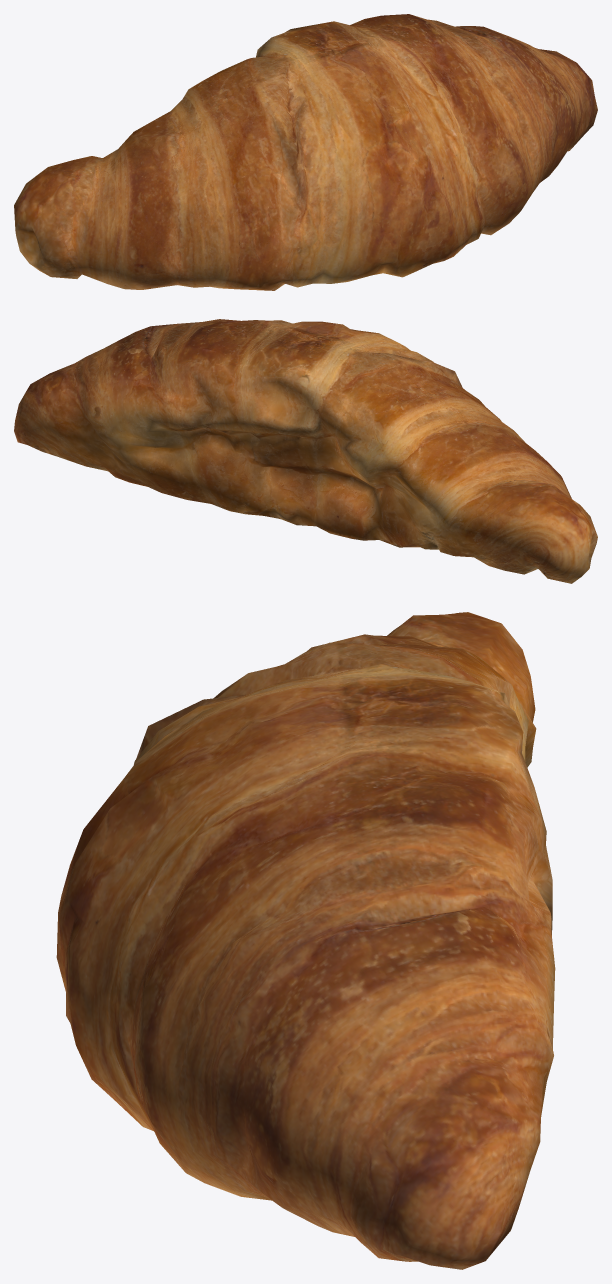
File: croissant.gltf
3 views of the same model, one above another, from view 1: azimuth 30°, elevation 25°; view 2: azimuth 150°, elevation 25°; view 3: azimuth 270°, elevation 25° (orthographic). The views are drawn at different scales.
Parts seen in each view (by area): view 1: croissant; view 2: croissant; view 3: croissant.
Part boxes in pixels (x1,y1,x2,y2): croissant: [14, 14, 597, 290]; croissant: [14, 319, 597, 583]; croissant: [56, 612, 555, 1269].
Bounding box in the file's own units: 0.2 × 0.062 × 0.0755.
1 material, 1 textured.
